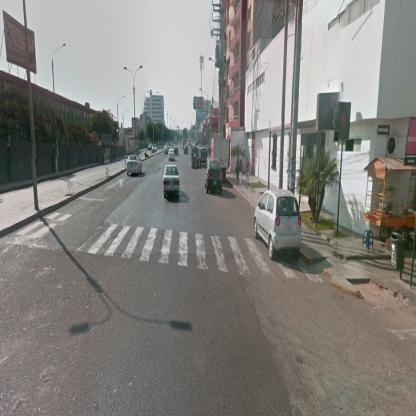Pista: (1, 146, 352, 303)
Vehiculo: (254, 188, 302, 263), (206, 159, 224, 199), (164, 166, 180, 202), (127, 155, 143, 177)
